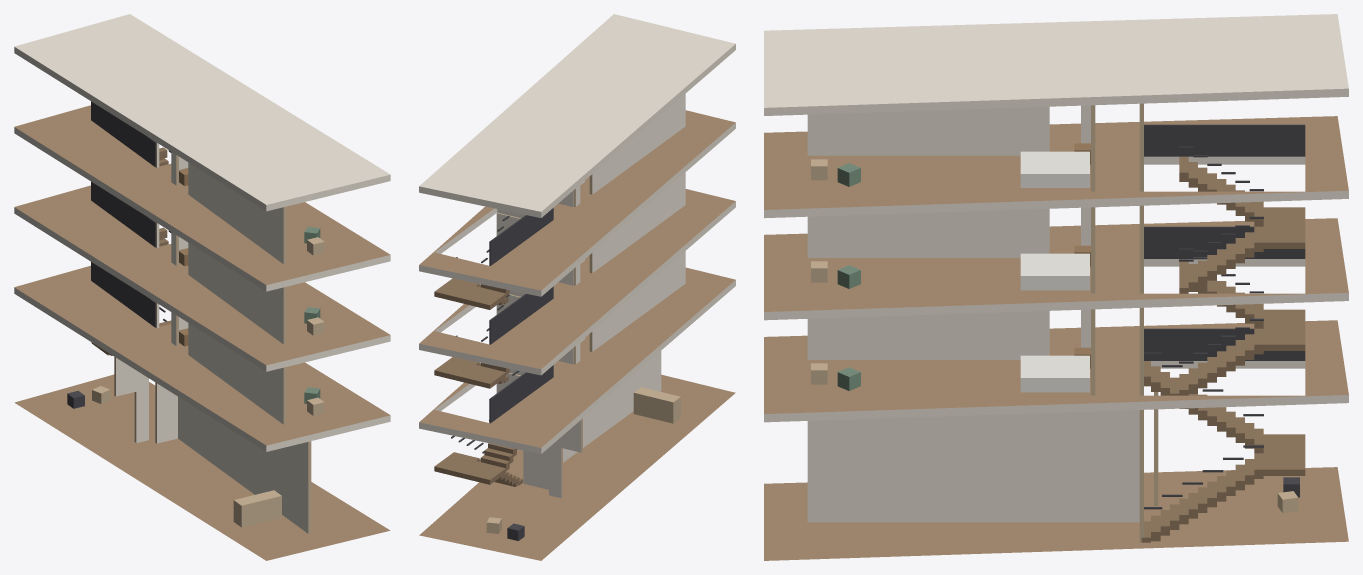
File: interior.glb
3 views of the same model, side by side, from view 1: azimuth 30°, elevation 25°; view 2: azimuth 150°, elevation 25°; view 3: azimuth 270°, elevation 25° (orthographic). The views are drawn at different scales.
Parts seen in each view (by area): view 1: slabs, partitions, stair, coarse-s0, coarse-s2, coarse-s3, coarse-s1; view 2: slabs, partitions, stair, coarse-s0; view 3: slabs, partitions, stair, coarse-s1, coarse-s2, coarse-s3.
Boxes of the visible parts, x1,y1,x2,y2 form: slabs: (14, 14, 390, 560); partitions: (114, 142, 311, 533); stair: (91, 101, 171, 355); coarse-s0: (67, 386, 281, 527); coarse-s2: (179, 248, 324, 335); coarse-s3: (179, 168, 324, 255); coarse-s1: (179, 328, 324, 415); slabs: (419, 14, 735, 560); partitions: (496, 94, 685, 498); stair: (434, 208, 553, 486); coarse-s0: (486, 387, 680, 540); slabs: (764, 14, 1348, 560); partitions: (807, 103, 1158, 542); stair: (1141, 124, 1305, 542); coarse-s1: (811, 347, 1090, 392); coarse-s2: (811, 245, 1090, 290); coarse-s3: (811, 143, 1090, 187).
Size of the model in its own units: 6.39 by 14.4 by 16.83.
